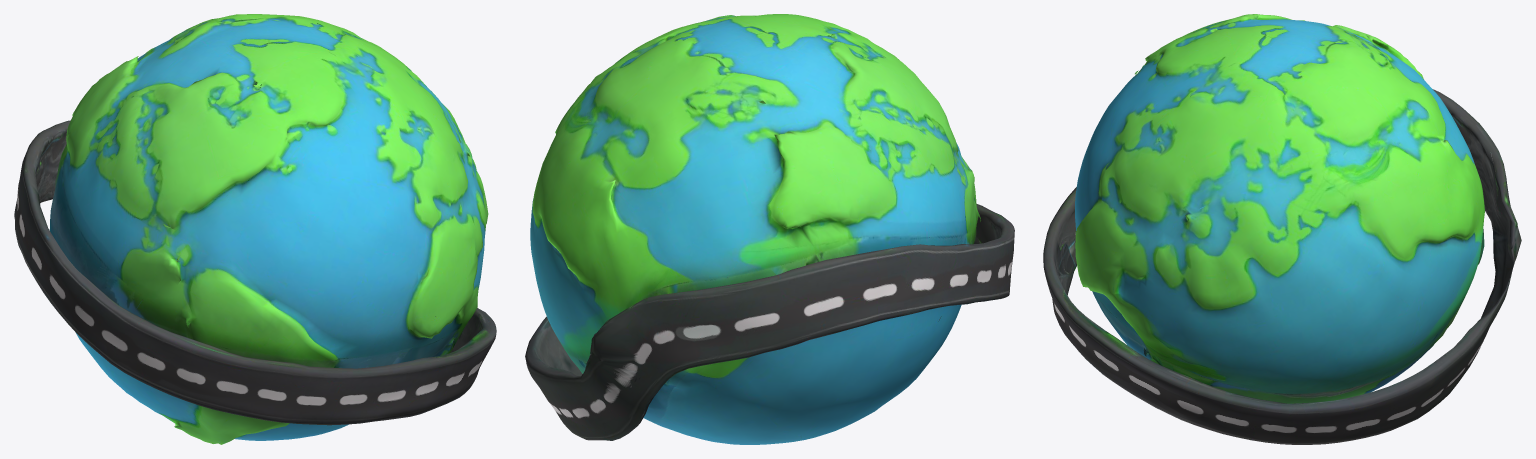
The model's file is Globe.glb.
3 views of the same model, side by side, from view 1: azimuth 30°, elevation 25°; view 2: azimuth 150°, elevation 25°; view 3: azimuth 270°, elevation 25° (orthographic). The views are drawn at different scales.
Visible parts, largest first — view 1: Mesh_0; view 2: Mesh_0; view 3: Mesh_0.
Boxes of the visible parts, box(x1,y1,x2,y2) form: Mesh_0: box(14, 14, 496, 444); Mesh_0: box(525, 14, 1014, 444); Mesh_0: box(1043, 14, 1521, 444).
Size of the model in its own units: 1.89 by 1.69 by 2.06.
1 material, 1 textured.
